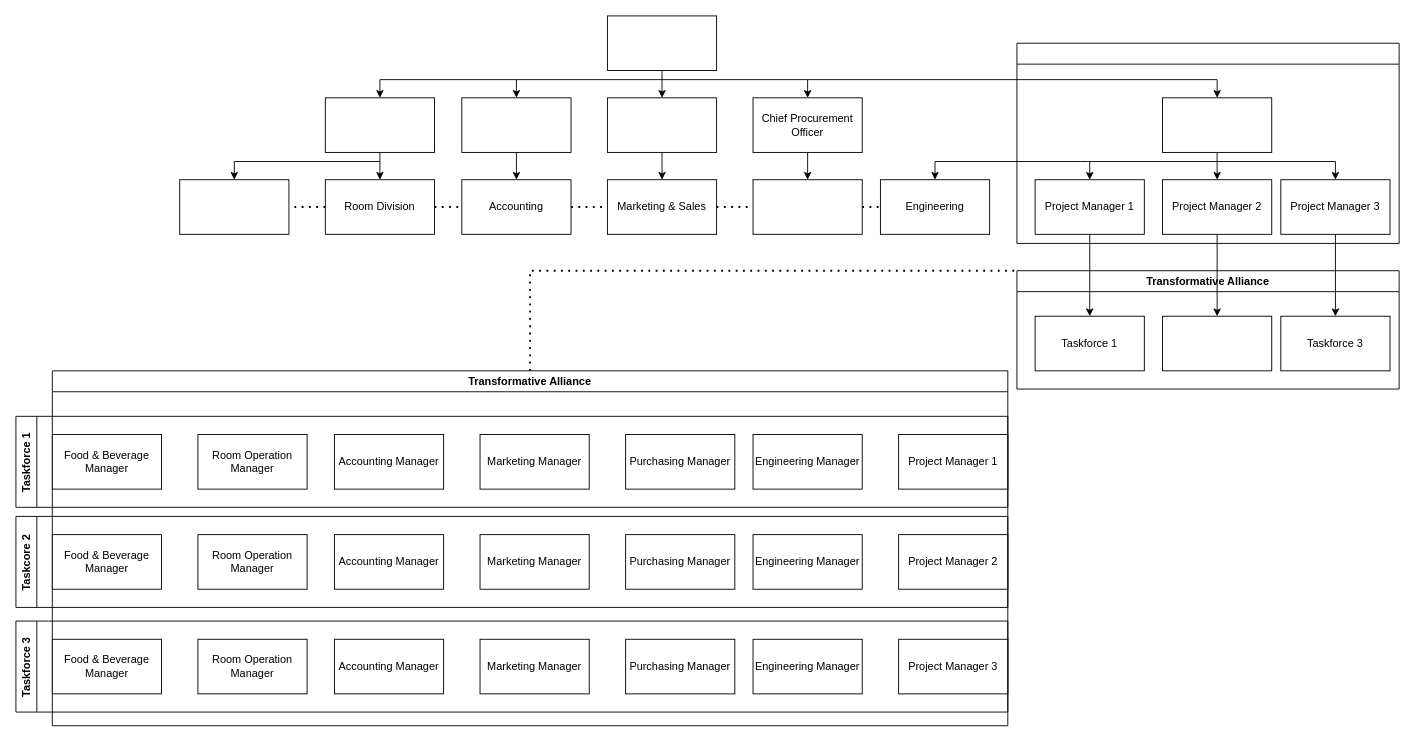
Image size: 1415x742. Some labels were removed from this diagram. The shapes that lost their labels are listed below. From the top down, each one's box as (x1, y1, x2, y2) in pixels, then its label:
(607, 15, 717, 71): Chief Executive Officer
(324, 97, 435, 152): Chief Of Operations
(461, 97, 571, 152): Chief Financial Officer
(607, 97, 717, 152): Chief Marketing Officer
(1016, 42, 1399, 243): Transformative Council
(1162, 97, 1272, 152): Chief Information Officer
(179, 179, 289, 234): Food & Beverage
(752, 179, 862, 234): Purchasing
(1162, 315, 1272, 371): Taskforce 2
